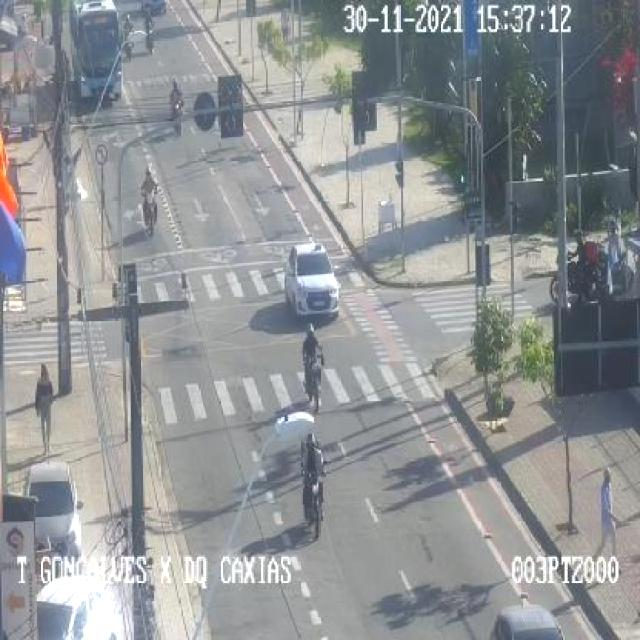Bus: (57, 1, 127, 114)
Car: (275, 235, 347, 332), (23, 462, 83, 560), (35, 577, 119, 638), (139, 0, 166, 16)
Cycle: (536, 235, 606, 311), (299, 423, 339, 531), (286, 323, 330, 411), (126, 157, 170, 227), (156, 66, 190, 134), (138, 18, 166, 58)
